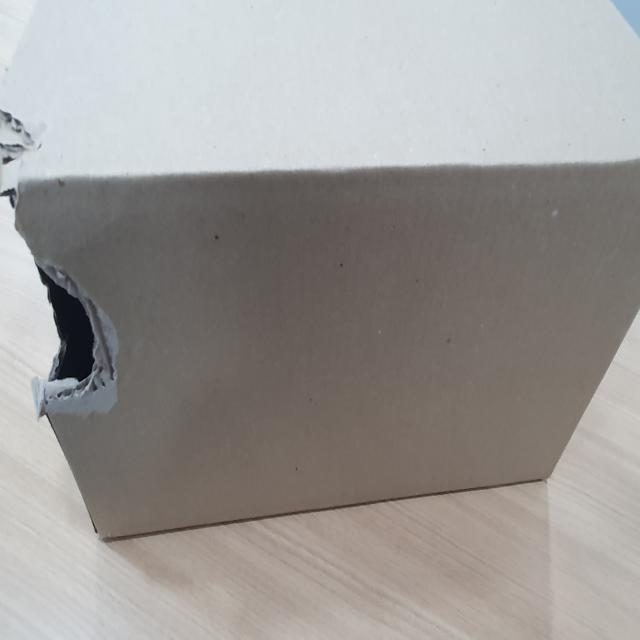hole: (1, 106, 122, 415)
